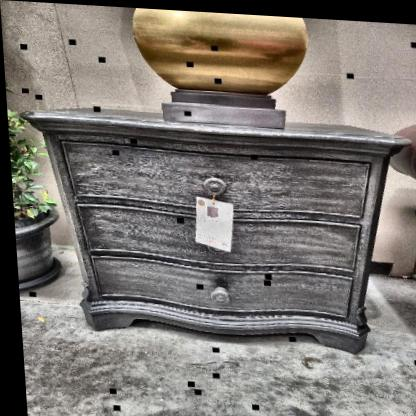Nightstand: (48, 99, 405, 355)
